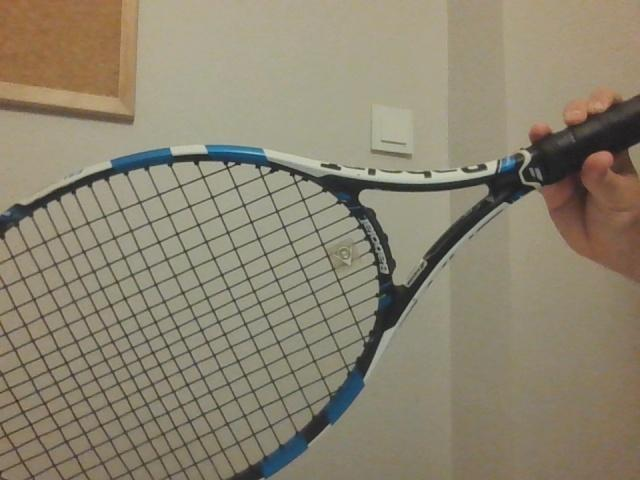Tennis-Racket: (0, 102, 637, 480)
